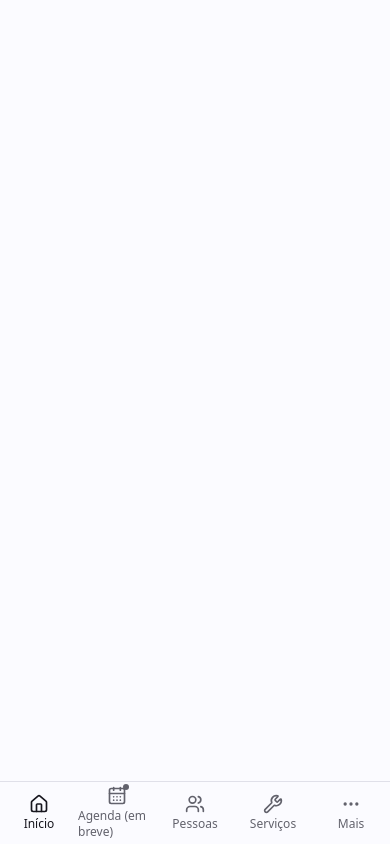
it: BottomNav › reveals Conversas and Ajustes inside the "Mais" sheet, not as direct tabs
This screenshot has width=390, height=844.
Check: the link "Conversas" is not shown
Click the button "Mais" at (351,813), box [312,782,389,843]
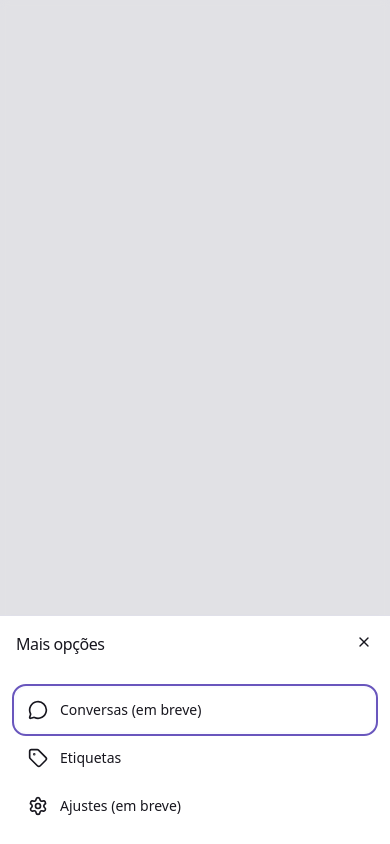
Check: the link "Conversas (em breve)" is shown, box [16,688,374,732]
Check: the link "Ajustes (em breve)" is shown, box [28,796,181,816]
